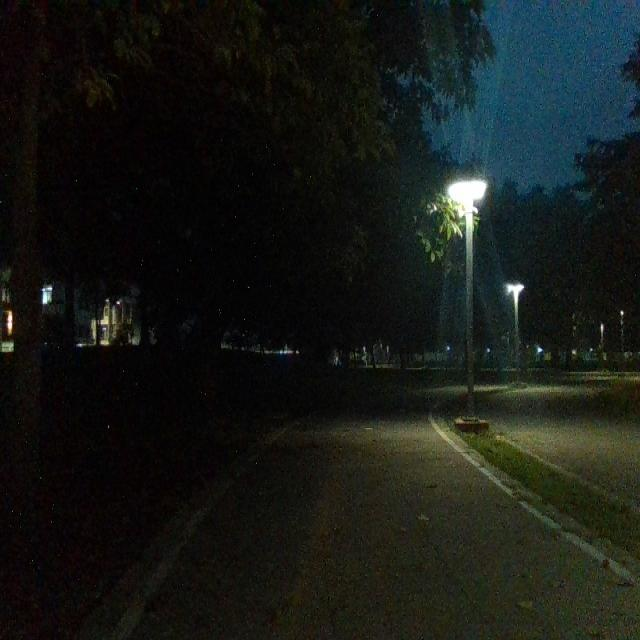lane: (131, 414, 639, 637)
